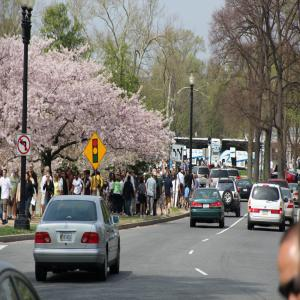Vehicle-registration-plate: (61, 231, 73, 243), (263, 212, 269, 217), (204, 205, 210, 209), (244, 190, 248, 193)
